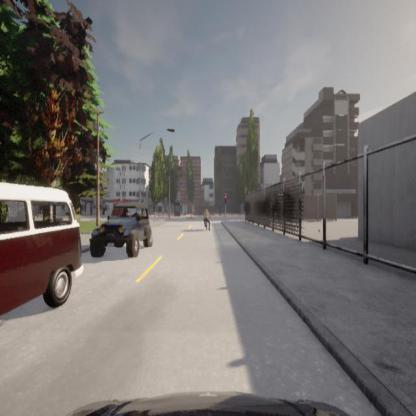bike: (202, 209, 211, 230)
traffic_light_red: (223, 196, 226, 202)
vehicle: (89, 196, 153, 258)
